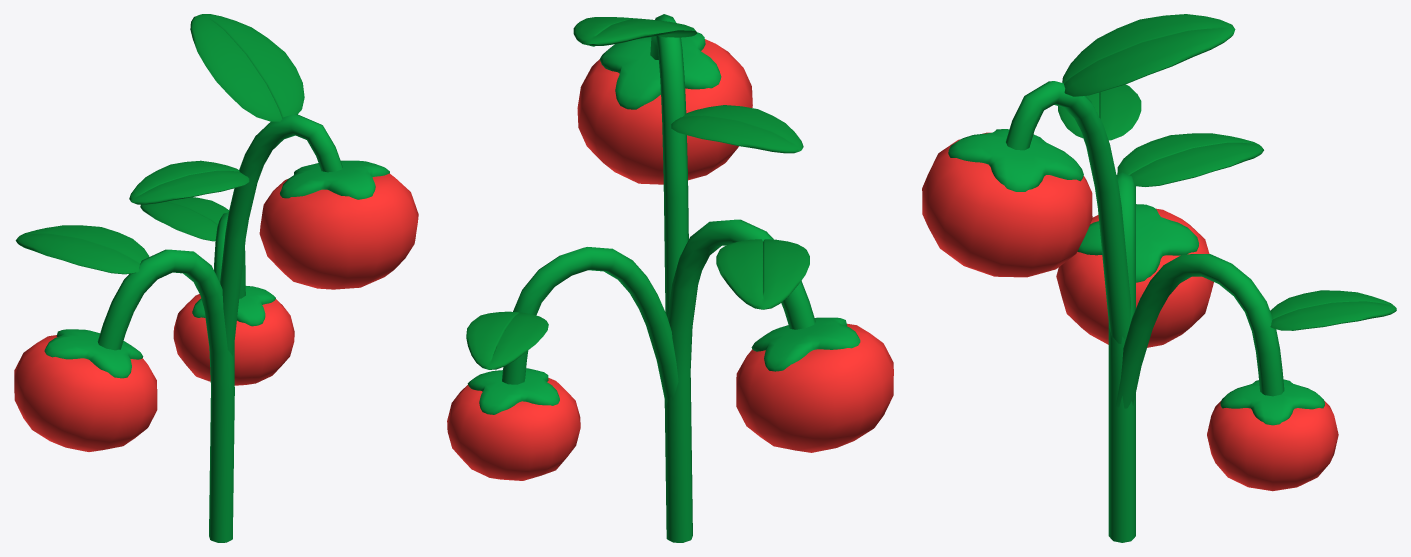
The model's file is Farm_3_Tomato_Bush_2.glb.
The picture shows the model from 3 angles, left to right: view 1: azimuth 30°, elevation 25°; view 2: azimuth 150°, elevation 25°; view 3: azimuth 270°, elevation 25°; orthographic projection. The views are drawn at different scales.
Parts seen in each view (by area): view 1: Farm_3_Tomato_Bush_2; view 2: Farm_3_Tomato_Bush_2; view 3: Farm_3_Tomato_Bush_2.
Boxes of the visible parts, x1=… form: Farm_3_Tomato_Bush_2: x1=14, y1=14, x2=418, y2=542; Farm_3_Tomato_Bush_2: x1=447, y1=14, x2=893, y2=542; Farm_3_Tomato_Bush_2: x1=922, y1=14, x2=1396, y2=542.
Size of the model in its own units: 1.02 by 1.44 by 1.17.
1 material, 1 textured.
